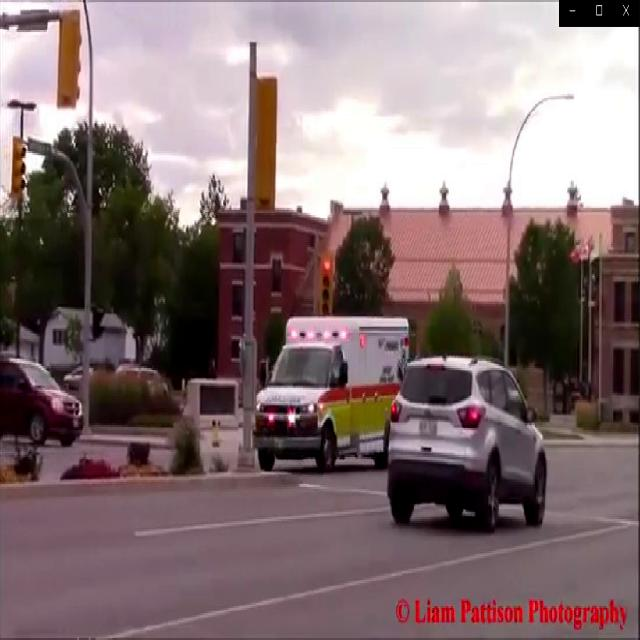emergency: (255, 306, 414, 472)
